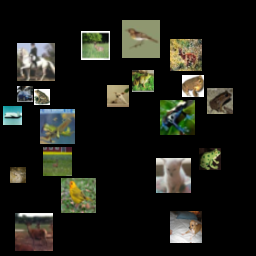airplane: (40, 109, 75, 144), (3, 106, 22, 125)
automobile: (17, 86, 33, 102)
bird: (122, 20, 160, 58), (61, 178, 96, 213)
cat: (156, 158, 191, 193)
deer: (15, 213, 53, 251), (170, 39, 202, 71), (81, 31, 110, 60), (43, 147, 72, 176)
dog: (170, 211, 202, 243), (107, 85, 129, 107)
frog: (160, 100, 195, 135), (207, 88, 233, 114), (199, 148, 221, 170), (182, 75, 204, 97), (132, 70, 154, 92), (10, 167, 26, 183), (34, 89, 50, 105)
